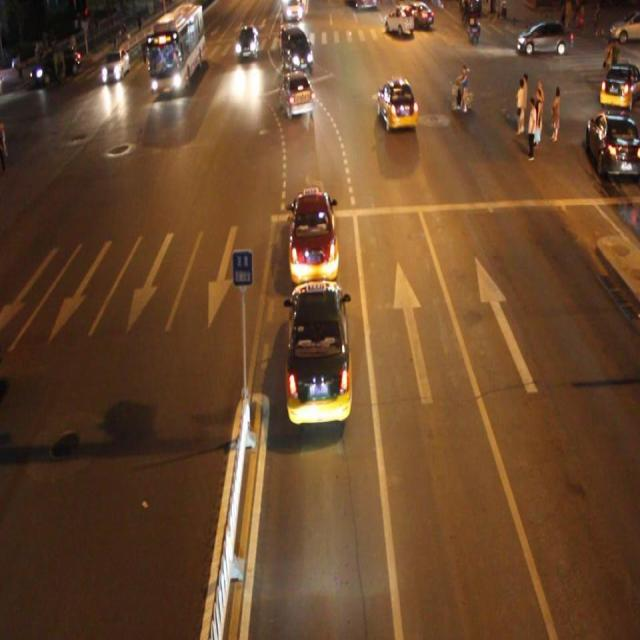BigCar: (144, 6, 212, 102)
car: (282, 288, 363, 423), (280, 182, 352, 287), (588, 102, 640, 198), (365, 73, 419, 132), (596, 49, 640, 119), (268, 75, 326, 128), (518, 15, 581, 63), (268, 16, 316, 74), (600, 6, 640, 59), (98, 40, 135, 95), (230, 21, 266, 70), (391, 0, 418, 44)
